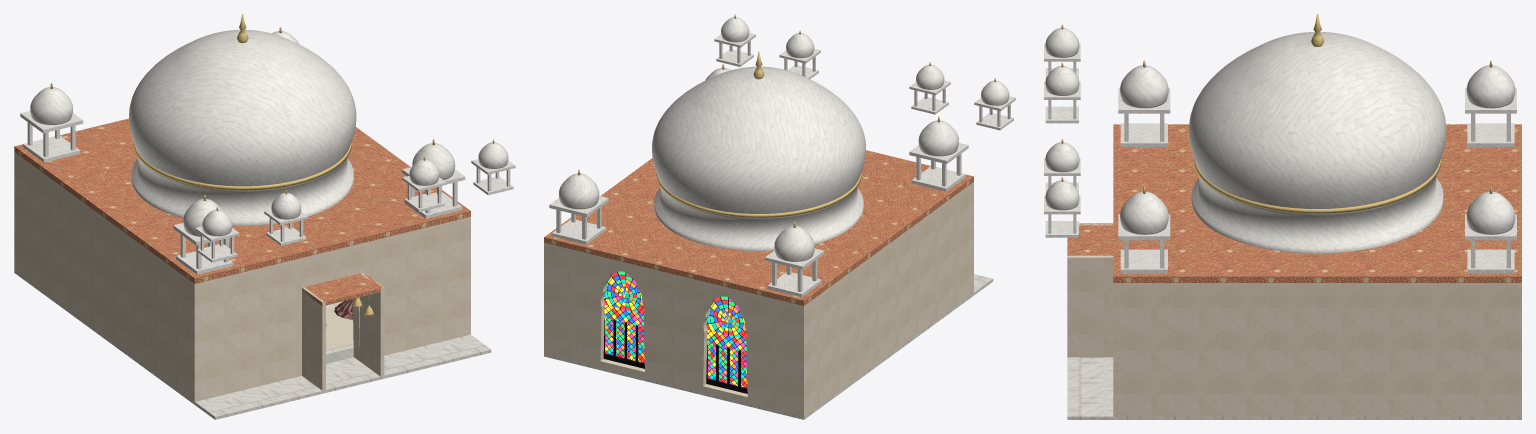
Rendered from haveli_interior.glb.
3 renders of one model, left to right at view 1: azimuth 30°, elevation 25°; view 2: azimuth 150°, elevation 25°; view 3: azimuth 270°, elevation 25°, orthographic. The views are drawn at different scales.
Visible parts, largest first — view 1: W_Roof_Dome, W_Wall_front, W_Wall_left, W_Int_CeilingSlab, W_Int_Floor, W_Roof_Drum, W_Lobby_WallL, W_Lobby_WallR, W_Chhatri_2, W_Lobby_Ceiling, W_Chhatri_2_Dome, W_Chhatri_0 (+14 smaller); view 2: W_Roof_Dome, W_Wall_back, W_Int_CeilingSlab, W_Wall_left, W_Roof_Drum, W_Int_Window_L, W_Int_Window_R, W_Int_Floor, W_Chhatri_2, W_Chhatri_3, W_Chhatri_0, W_Chhatri_2_Dome (+12 smaller); view 3: W_Wall_right, W_Roof_Dome, W_Int_CeilingSlab, W_Roof_Drum, W_Lobby_WallR, W_Int_Floor, W_Wall_back, W_Wall_front, W_Chhatri_1, W_Chhatri_0, W_Chhatri_3, W_Chhatri_2 (+12 smaller).
Boxes of the visible parts, box(x1,y1,x2,y2) form: W_Roof_Dome: box(129, 29, 356, 186); W_Wall_front: box(188, 217, 470, 401); W_Wall_left: box(14, 152, 194, 401); W_Int_CeilingSlab: box(14, 118, 470, 283); W_Int_Floor: box(14, 270, 491, 419); W_Roof_Drum: box(131, 157, 353, 225); W_Lobby_WallL: box(302, 287, 325, 390); W_Lobby_WallR: box(360, 272, 384, 376); W_Chhatri_2: box(20, 111, 83, 162); W_Lobby_Ceiling: box(302, 273, 382, 305); W_Chhatri_2_Dome: box(30, 87, 72, 124); W_Chhatri_0: box(173, 223, 233, 274); W_Roof_Dome: box(652, 66, 865, 213); W_Wall_back: box(544, 242, 809, 416); W_Int_CeilingSlab: box(544, 150, 973, 305); W_Wall_left: box(793, 186, 967, 416); W_Roof_Drum: box(654, 186, 863, 250); W_Int_Window_L: box(706, 296, 747, 393); W_Int_Window_R: box(603, 271, 644, 368); W_Int_Floor: box(544, 274, 993, 419); W_Chhatri_2: box(765, 248, 824, 297); W_Chhatri_3: box(549, 196, 608, 244); W_Chhatri_0: box(909, 143, 968, 191); W_Chhatri_2_Dome: box(774, 226, 814, 261); W_Wall_right: box(1127, 283, 1507, 416); W_Roof_Dome: box(1189, 32, 1446, 208); W_Int_CeilingSlab: box(1113, 124, 1521, 282); W_Roof_Drum: box(1191, 176, 1443, 253); W_Lobby_WallR: box(1067, 255, 1113, 357); W_Int_Floor: box(1067, 357, 1521, 419); W_Wall_back: box(1507, 283, 1521, 416); W_Wall_front: box(1113, 283, 1127, 416); W_Chhatri_1: box(1118, 214, 1170, 273); W_Chhatri_0: box(1118, 88, 1170, 147); W_Chhatri_3: box(1465, 214, 1516, 273); W_Chhatri_2: box(1465, 88, 1516, 147).
Bounding box in the file's own units: 16.74 × 15.31 × 20.12.
47 materials, 25 textured.
